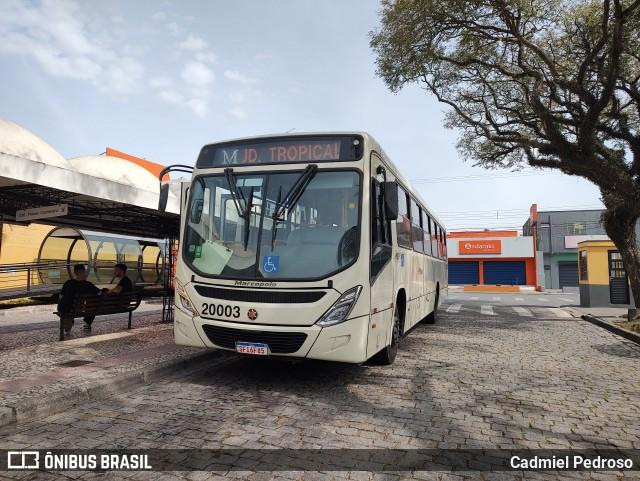JD TROPICAL: (239, 140, 345, 168)
